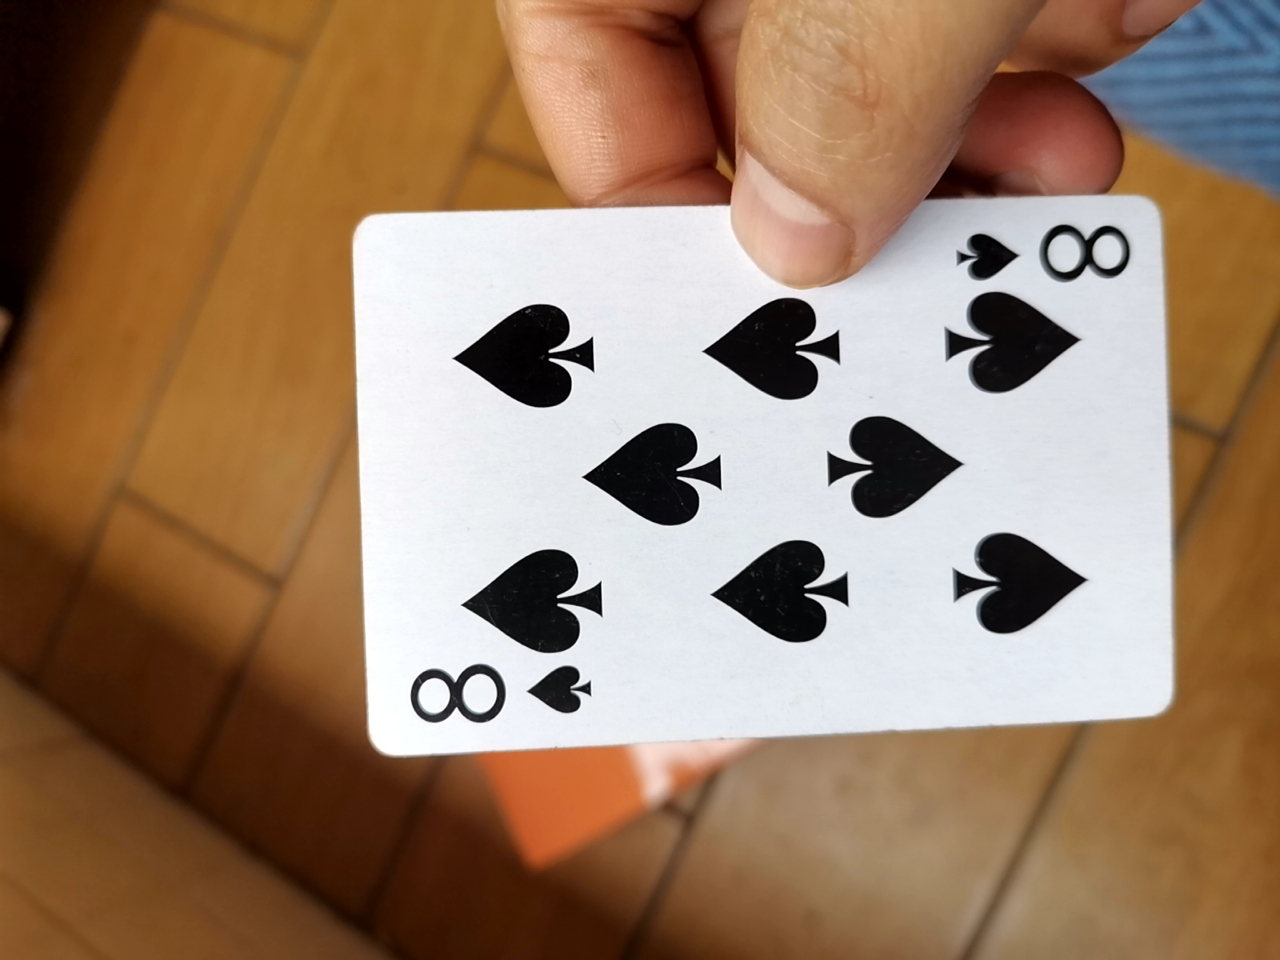ht 8: (332, 189, 1185, 776)
